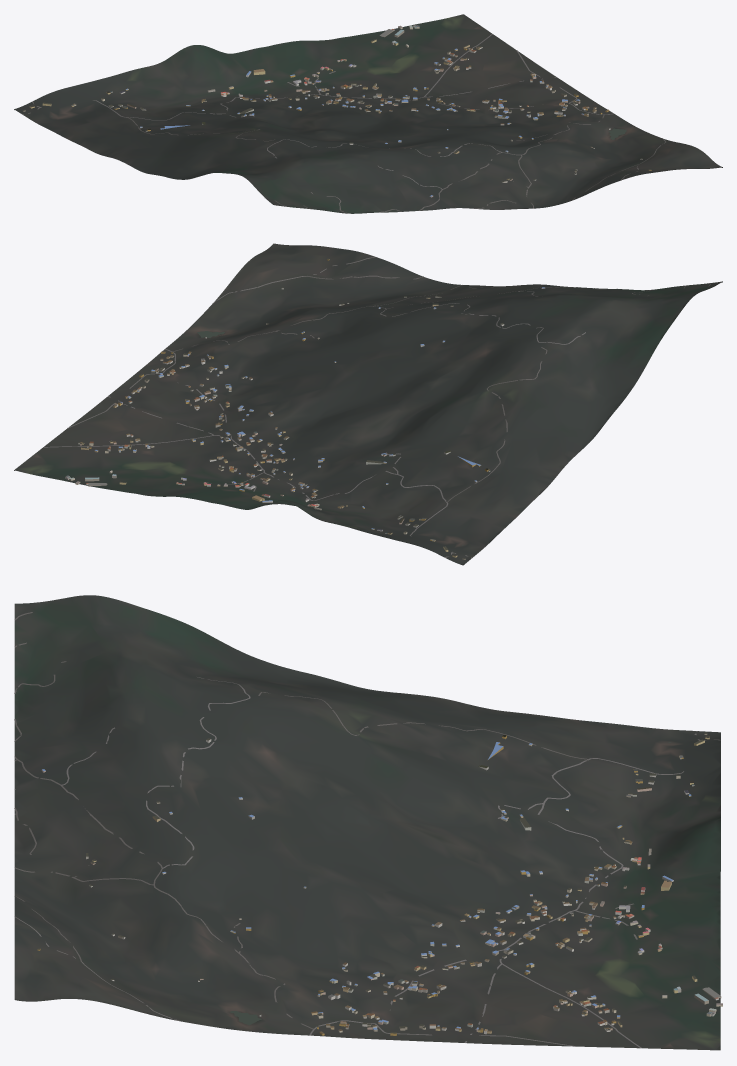
3 renders of one model, top to bottom at view 1: azimuth 30°, elevation 25°; view 2: azimuth 150°, elevation 25°; view 3: azimuth 270°, elevation 25°, orthographic. The views are drawn at different scales.
Parts seen in each view (by area): view 1: ground, buildings, roads; view 2: ground, buildings, roads; view 3: ground, buildings, roads.
Part boxes in pixels (x1=…): ground: x1=14, y1=14, x2=722, y2=213; buildings: x1=22, y1=25, x2=651, y2=197; roads: x1=23, y1=33, x2=665, y2=213; ground: x1=14, y1=243, x2=722, y2=565; buildings: x1=65, y1=258, x2=545, y2=559; roads: x1=43, y1=256, x2=710, y2=558; ground: x1=14, y1=595, x2=720, y2=1050; buildings: x1=37, y1=732, x2=722, y2=1035; roads: x1=14, y1=612, x2=720, y2=1048.
Bounding box in the file's own units: 1405 × 346 × 1407.
